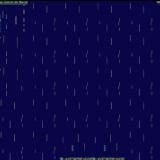Interaction: (0, 0, 33, 17)
Slow: (0, 0, 160, 160)
